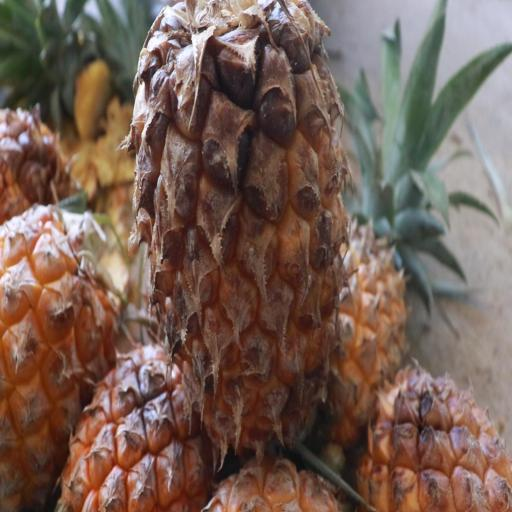Pineapple - v8 v1: (131, 0, 353, 465), (0, 194, 126, 512), (287, 204, 408, 474), (51, 337, 215, 512), (342, 368, 512, 512)
